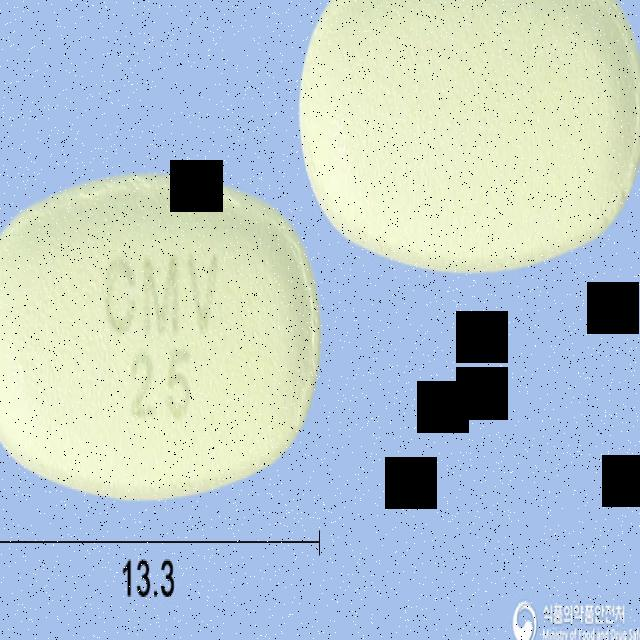Clocide: (0, 167, 319, 505)
